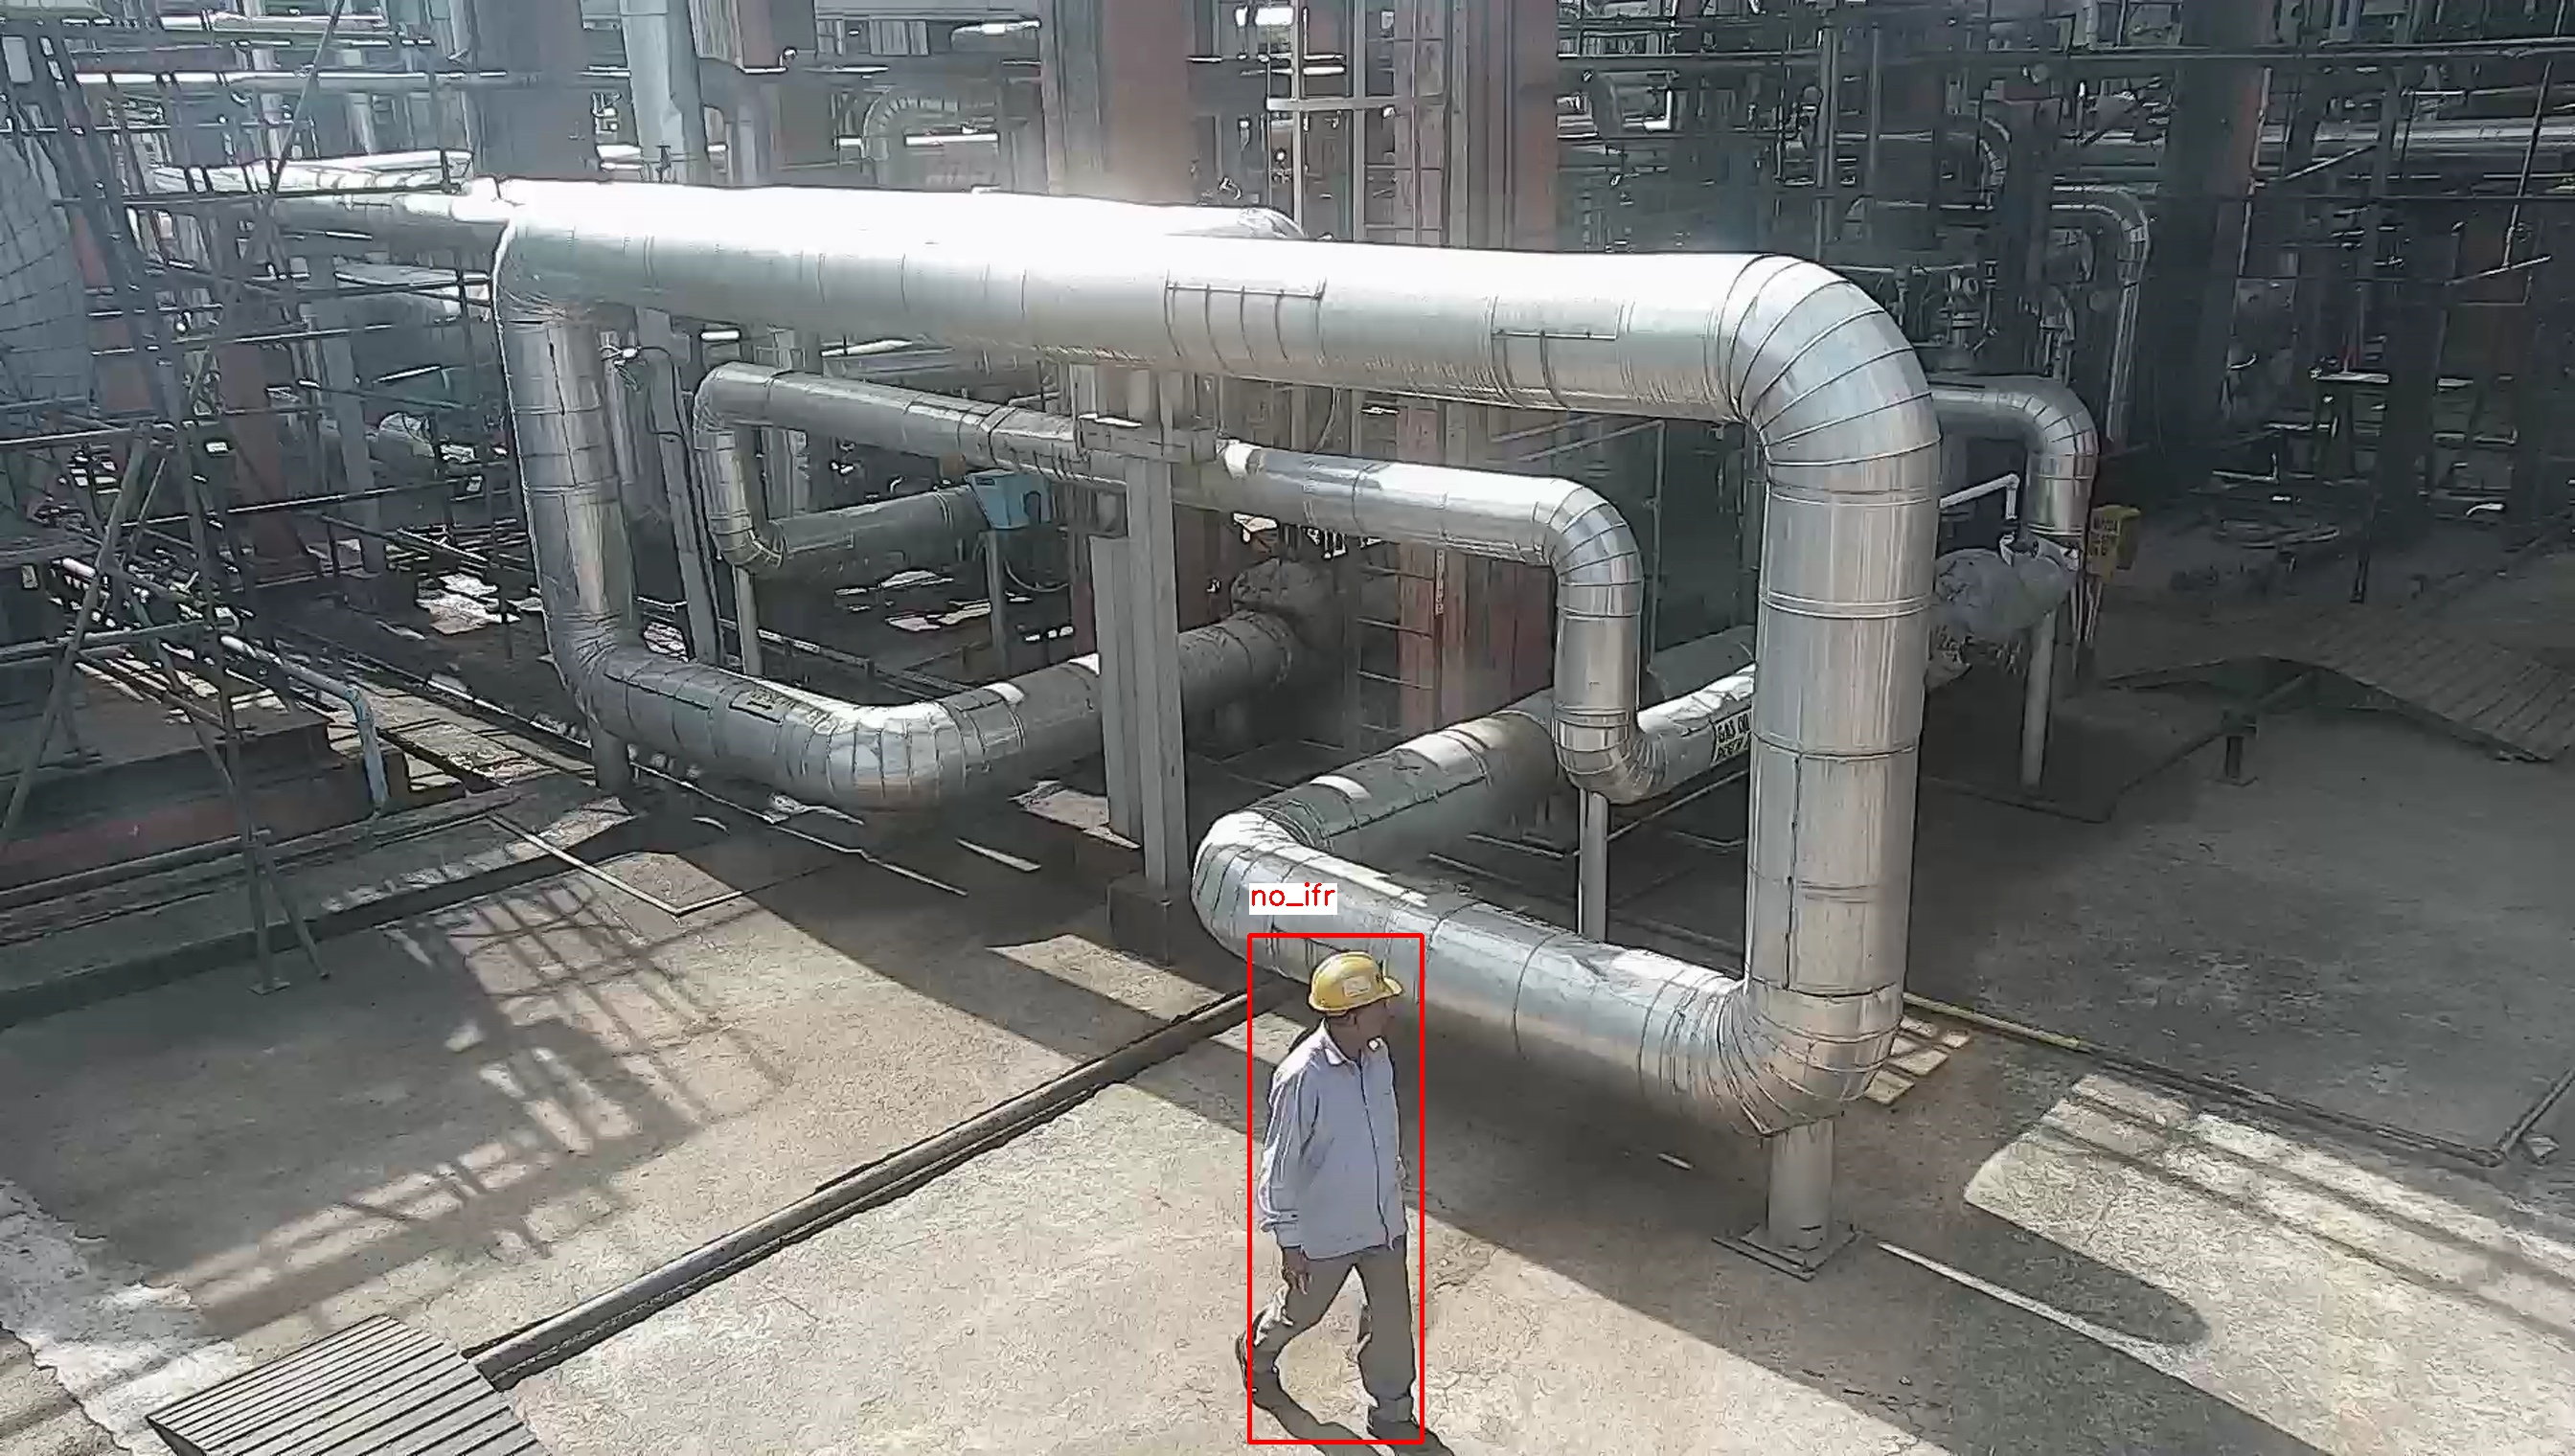Helmets: (1298, 946, 1415, 1019)
